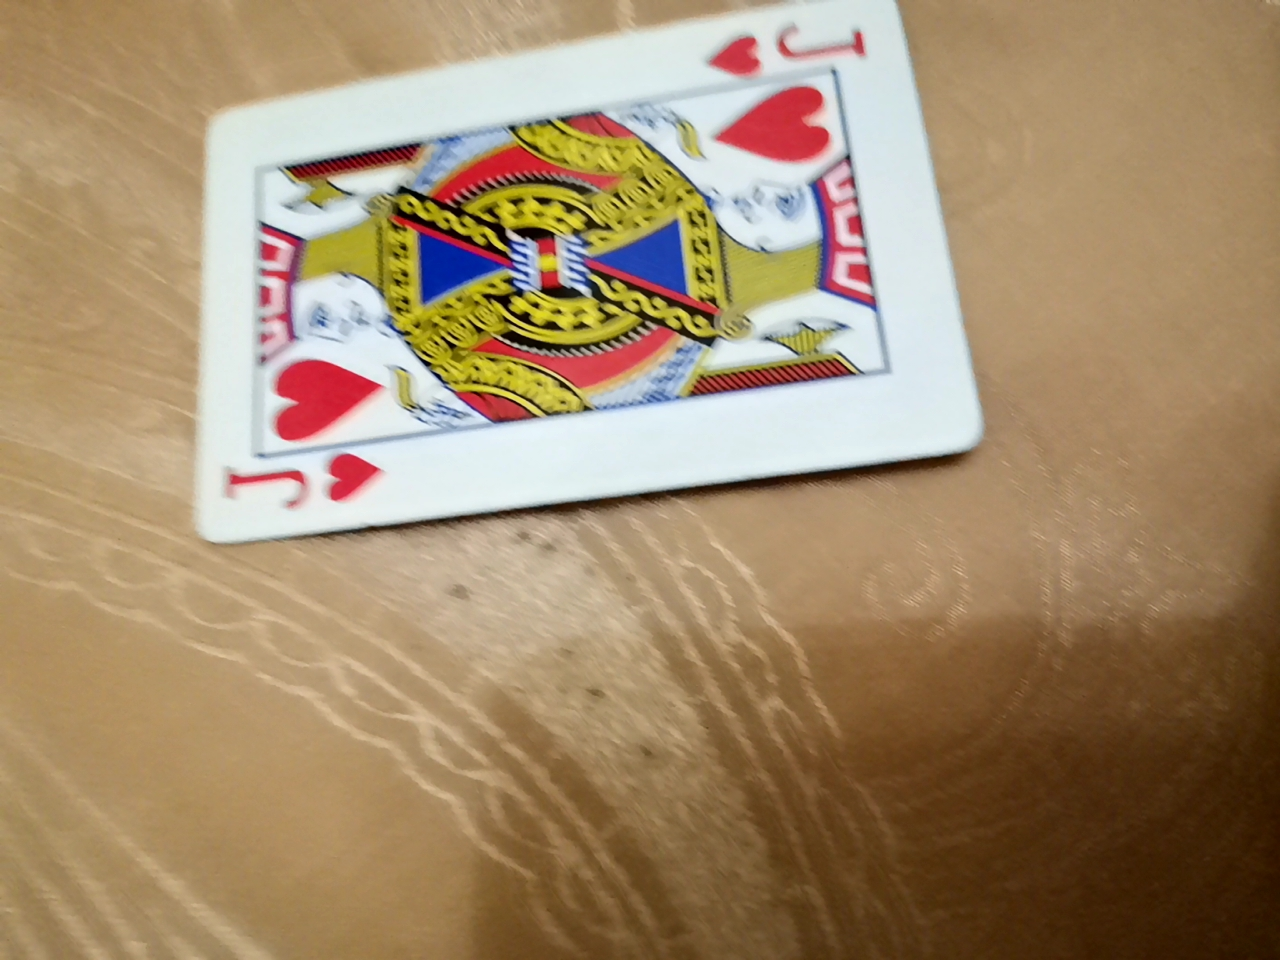hx j: (151, 1, 944, 517)
